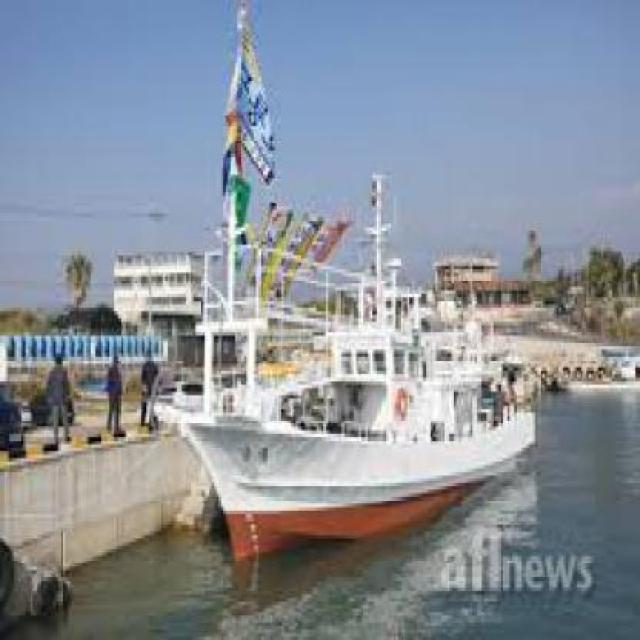fish-b: (143, 322, 548, 578)
